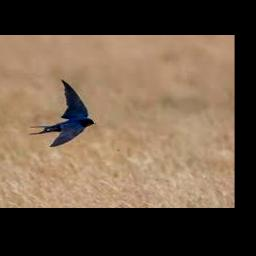Swallow: (30, 79, 95, 146)
